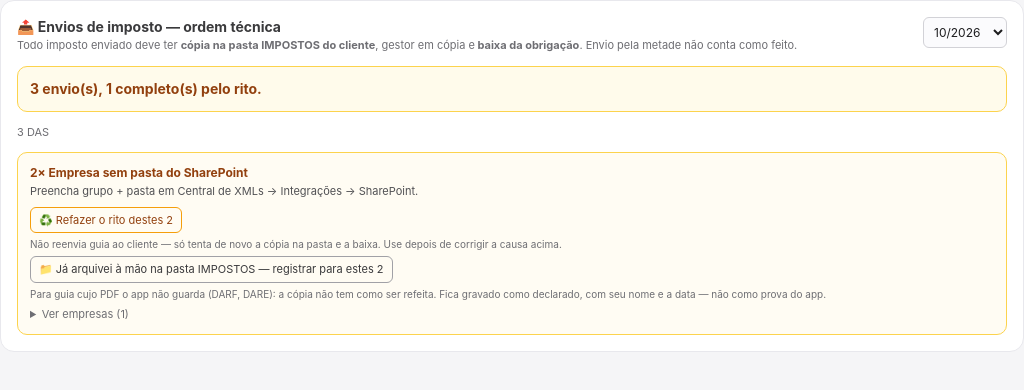
Test case: o resultado DIZ o que não deu › mostra arquivados e baixados
Click the button "♻️ Refazer o rito destes 2": (106, 220) [30,206,182,233]
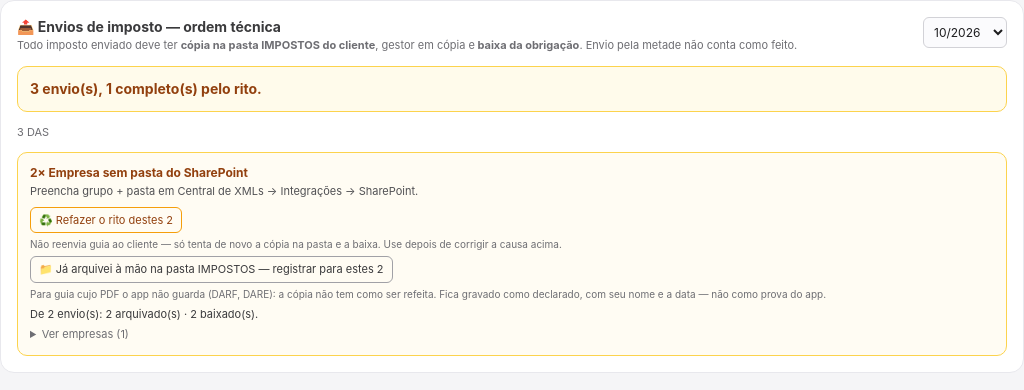
Check: the text "2 arquivado(s)" is shown, box [30,306,258,320]
Check: the text "2 baixado(s)" is shown, box [30,306,258,320]
